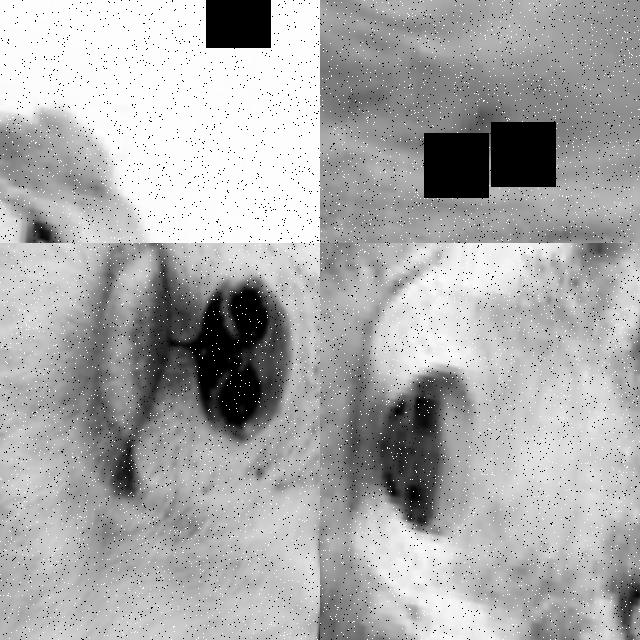dog: (320, 0, 640, 243), (0, 0, 220, 243)
wolf: (0, 243, 320, 640), (320, 243, 640, 640)
